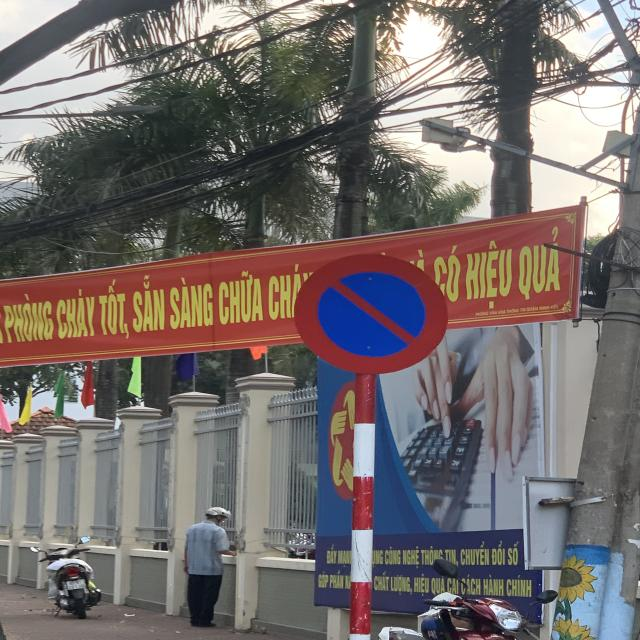Cam_Dau_Xe: (294, 253, 449, 374)
